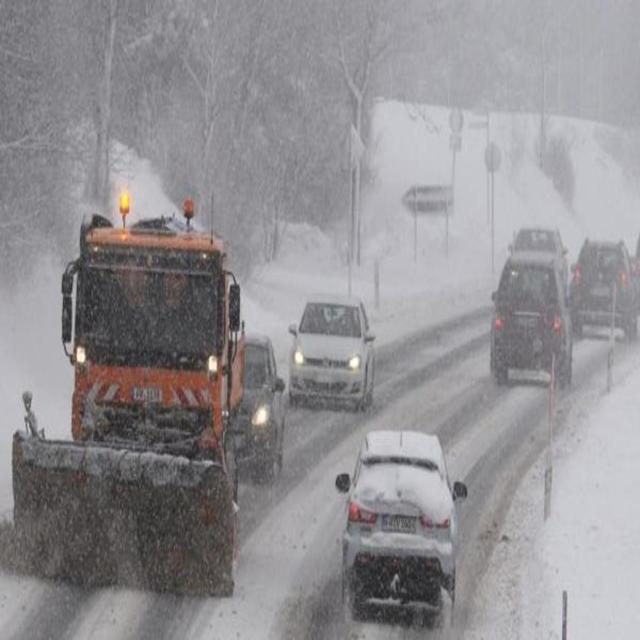bus: (12, 203, 252, 596)
car: (339, 425, 462, 635), (488, 232, 572, 393), (289, 297, 378, 411), (228, 334, 288, 484), (572, 241, 637, 342), (514, 224, 568, 290)
